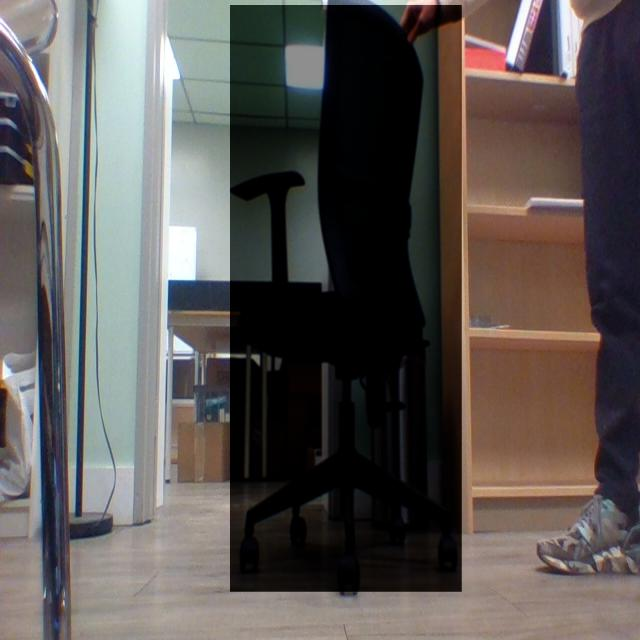black-chair: (230, 5, 463, 593)
